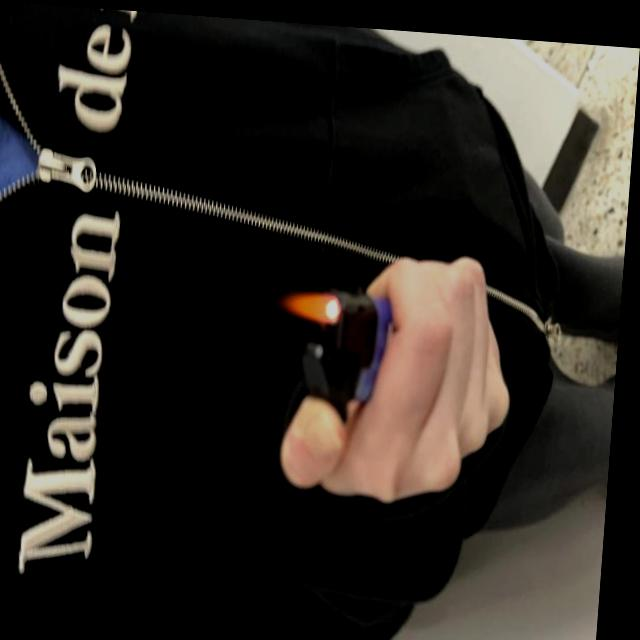Fire: (278, 283, 347, 320)
